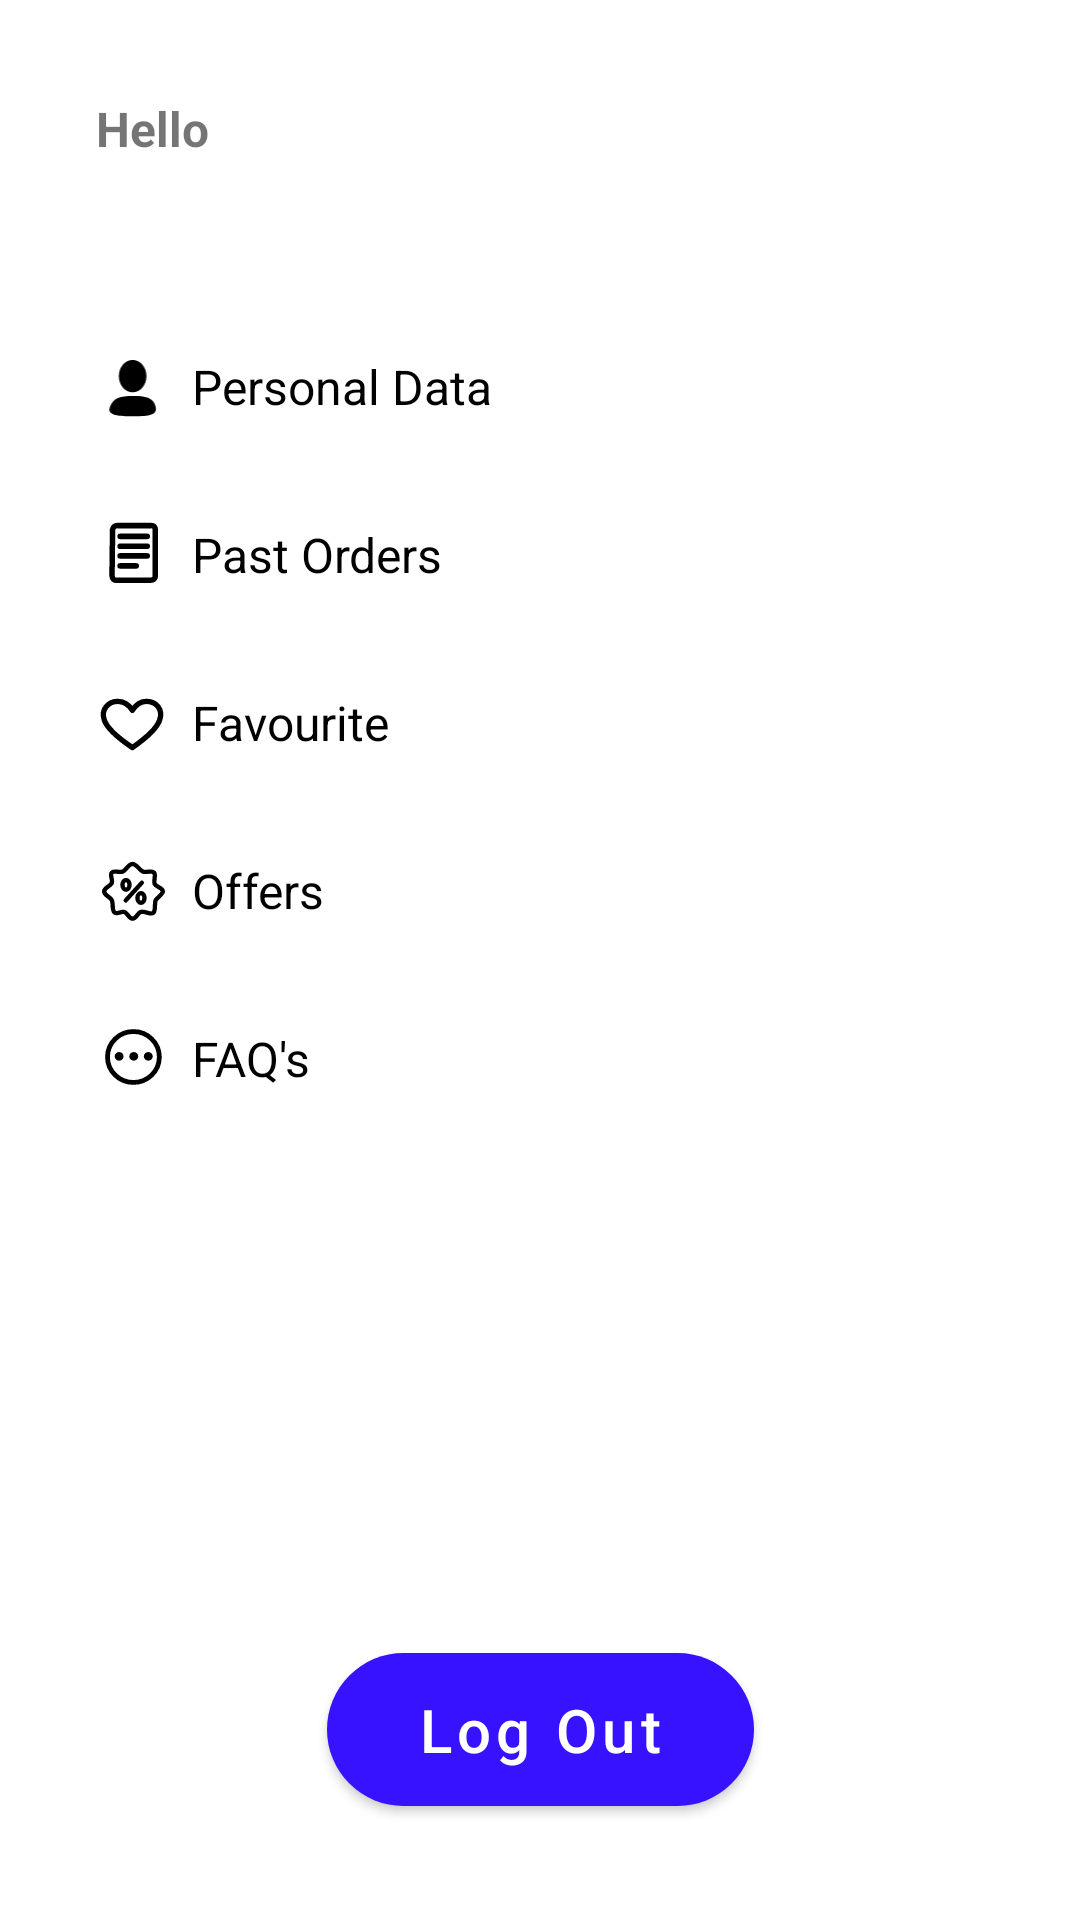

Icon bounding boxes for this 1080 × 1920 phone screenshot, format (x1, y1, x2, y2):
heart: (100, 698, 164, 751)
